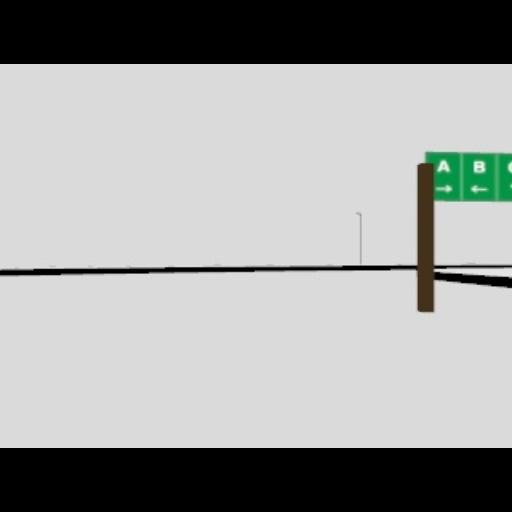A: (437, 160, 451, 172)
B: (474, 160, 486, 174), (507, 159, 512, 173)
Left: (470, 186, 490, 194)
Right: (436, 184, 452, 194)
